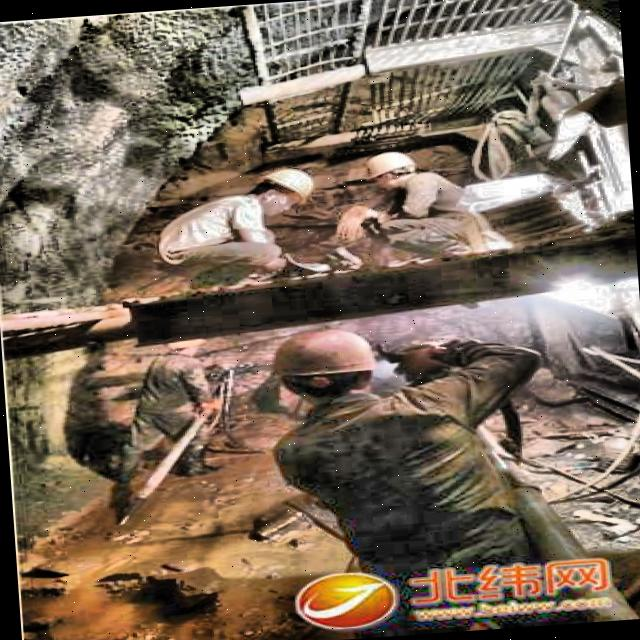helmet: (263, 326, 386, 410), (243, 164, 317, 216), (359, 148, 428, 192)
